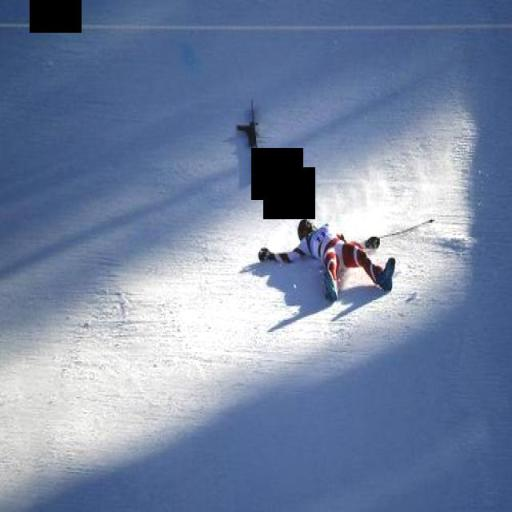Fall: (257, 215, 398, 294)
